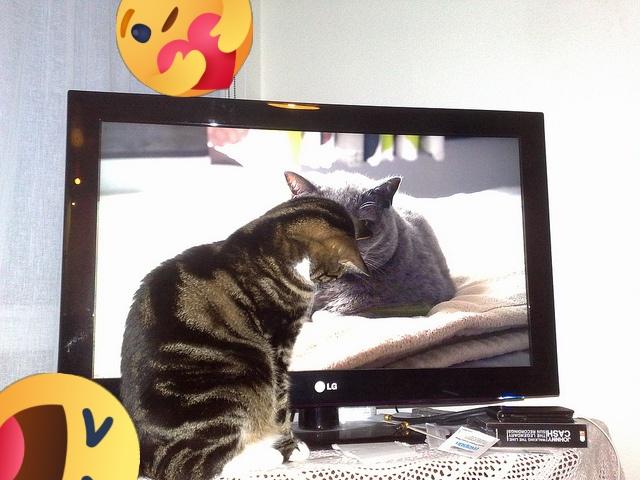care: (116, 0, 253, 97)
haha: (0, 373, 140, 480)
